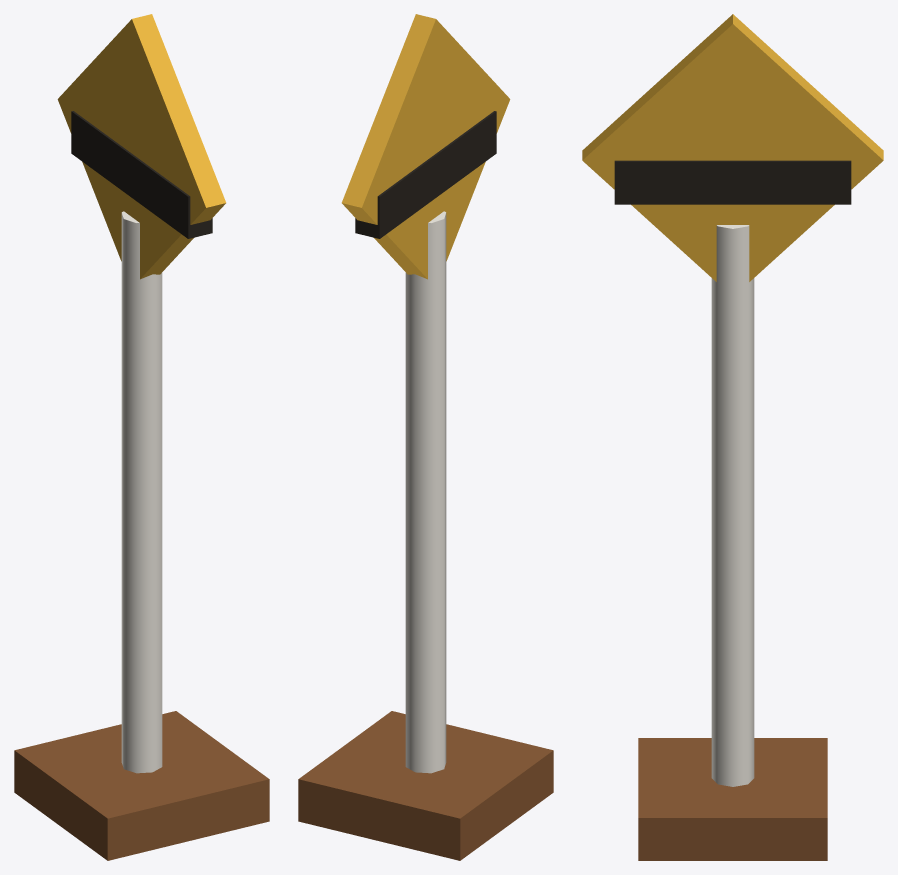
File: slow-board.glb
3 views of the same model, side by side, from view 1: azimuth 30°, elevation 25°; view 2: azimuth 150°, elevation 25°; view 3: azimuth 270°, elevation 25° (orthographic).
Parts seen in each view (by area): view 1: darkWood, white, yellow, black; view 2: darkWood, white, yellow, black; view 3: yellow, white, darkWood, black.
Part boxes in pixels (left/top/right/bottom): darkWood: left=14, top=711, right=269, bottom=860; white: left=121, top=211, right=162, bottom=773; yellow: left=57, top=14, right=226, bottom=279; black: left=71, top=111, right=212, bottom=238; darkWood: left=298, top=711, right=553, bottom=860; white: left=405, top=211, right=446, bottom=773; yellow: left=341, top=14, right=510, bottom=279; black: left=355, top=111, right=496, bottom=238; yellow: left=582, top=14, right=883, bottom=281; white: left=711, top=225, right=754, bottom=786; darkWood: left=638, top=738, right=827, bottom=860; black: left=614, top=160, right=851, bottom=204.
Bounding box in the file's own units: 16 × 74.73 × 25.46.
